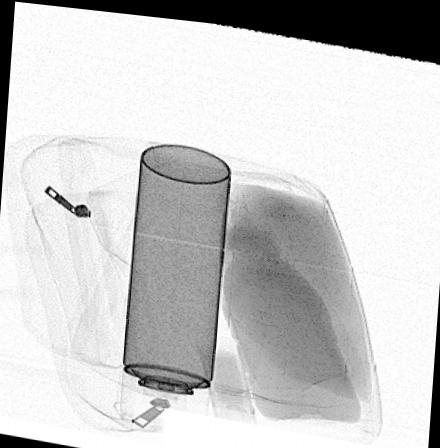Sprayer: (117, 138, 233, 426)
